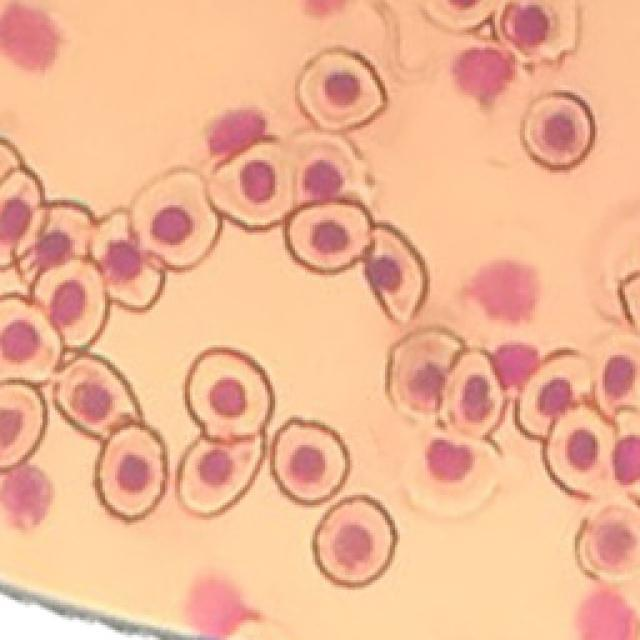RBC: (130, 171, 220, 270), (405, 429, 500, 519), (185, 350, 272, 441), (209, 139, 292, 229), (91, 211, 165, 311), (314, 498, 396, 588), (54, 355, 141, 439), (178, 436, 264, 518), (298, 51, 386, 131), (388, 329, 464, 419), (96, 424, 166, 521), (15, 203, 94, 288), (544, 405, 615, 498), (516, 351, 590, 440), (34, 259, 108, 348), (272, 421, 349, 505), (364, 225, 428, 325), (285, 201, 372, 274), (291, 132, 374, 206), (521, 94, 595, 171), (440, 350, 504, 438), (0, 297, 62, 382), (494, 0, 578, 60), (576, 506, 640, 582), (0, 169, 46, 268), (0, 382, 46, 471), (592, 334, 640, 418), (422, 0, 498, 31)
WBC: (468, 262, 539, 324), (0, 6, 59, 70), (452, 49, 515, 104), (0, 466, 51, 530), (208, 111, 265, 158), (492, 346, 539, 389), (614, 436, 640, 486)
